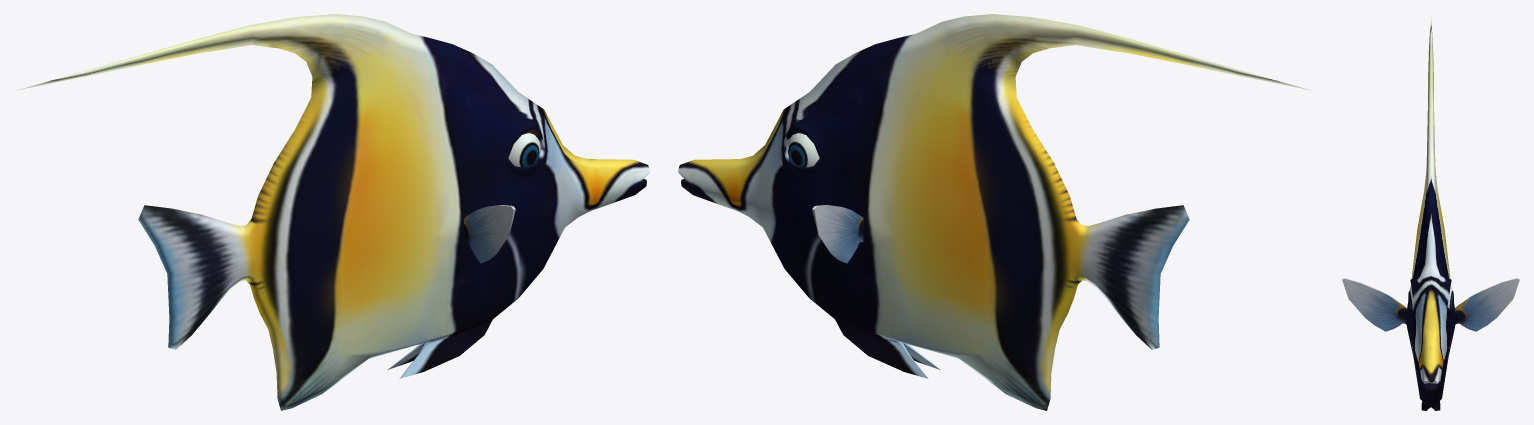
Rendered from Build_An_Aquarium-remix3d-G009SX0LH8QC.glb.
The picture shows the model from 3 angles, left to right: view 1: azimuth 30°, elevation 25°; view 2: azimuth 150°, elevation 25°; view 3: azimuth 270°, elevation 25°; orthographic projection. The views are drawn at different scales.
Visible parts, largest first — view 1: node_id45; view 2: node_id45; view 3: node_id45.
Boxes of the visible parts, x1=… form: node_id45: x1=16, y1=14, x2=649, y2=410; node_id45: x1=678, y1=14, x2=1311, y2=410; node_id45: x1=1342, y1=17, x2=1519, y2=410.
Size of the model in its own units: 0.512 by 0.3035 by 0.1823.
Materials: 1 (1 with a texture image).
